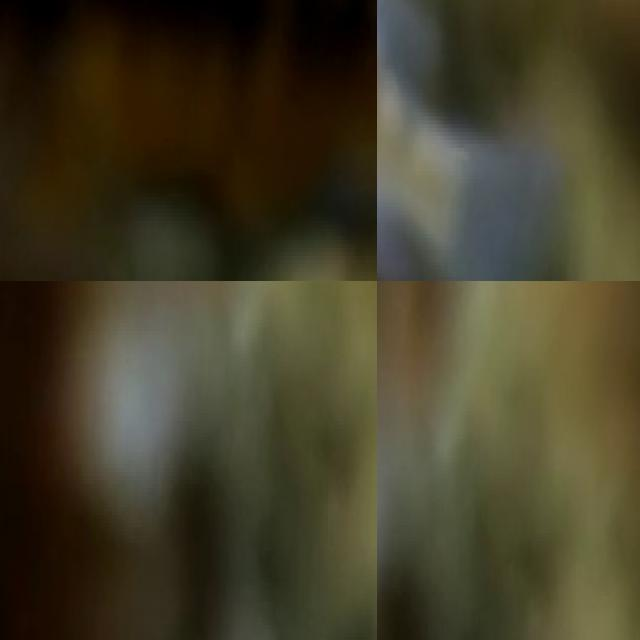fish: (0, 0, 377, 281), (377, 0, 560, 281)
